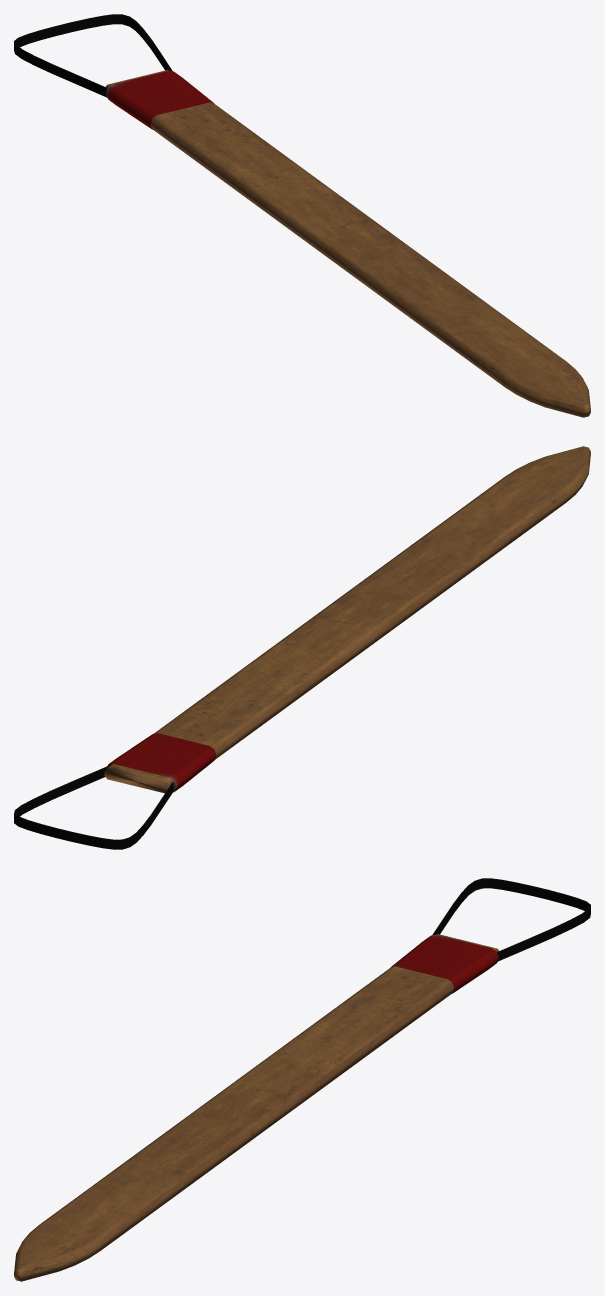
Rendered from DiaoKeDao_Small.fbx.
3 renders of one model, top to bottom at view 1: azimuth 30°, elevation 25°; view 2: azimuth 150°, elevation 25°; view 3: azimuth 330°, elevation 25°, orthographic.
Visible parts, largest first — view 1: DiaoKeDao_Small; view 2: DiaoKeDao_Small; view 3: DiaoKeDao_Small.
Boxes of the visible parts, x1,y1,x2,y2 form: DiaoKeDao_Small: (14,14,590,417); DiaoKeDao_Small: (14,446,590,849); DiaoKeDao_Small: (14,878,590,1281).
Size of the model in its own units: 0.961 by 0.1247 by 7.55.
1 material, 1 textured.
